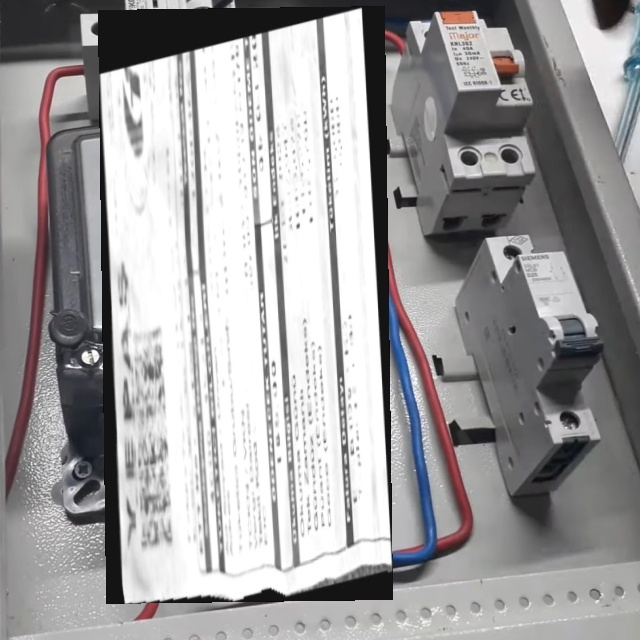electricity-bill: (97, 5, 392, 603)
